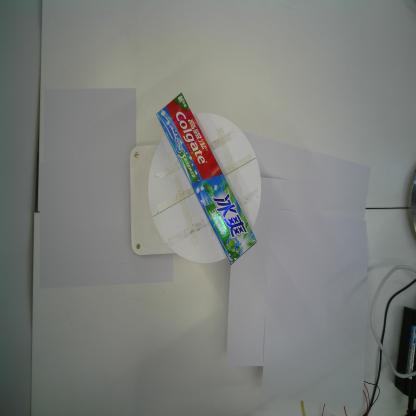Personal Hygiene: (156, 92, 258, 266)
